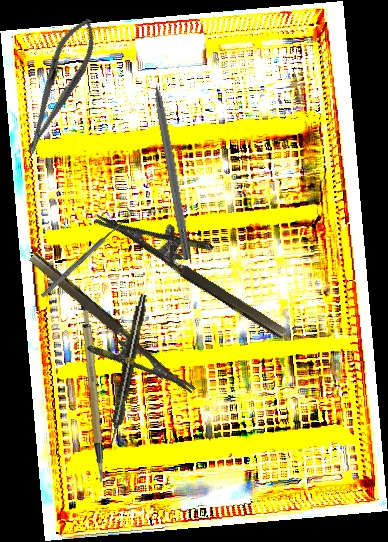Handpiece: (105, 293, 150, 447)
Hook Surgical: (35, 205, 137, 301), (147, 61, 195, 261)
Needle Holder: (93, 184, 305, 342), (9, 250, 197, 420), (12, 11, 106, 161)
Scalpel Handle: (69, 299, 114, 484)
